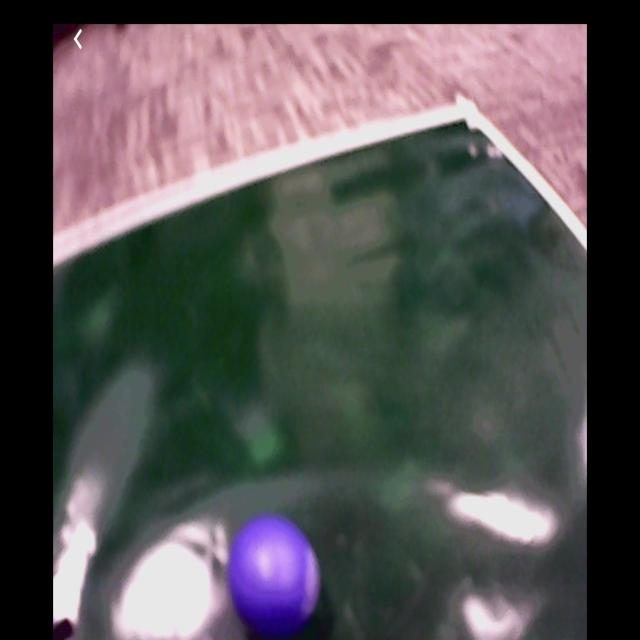ball: (229, 520, 320, 629)
